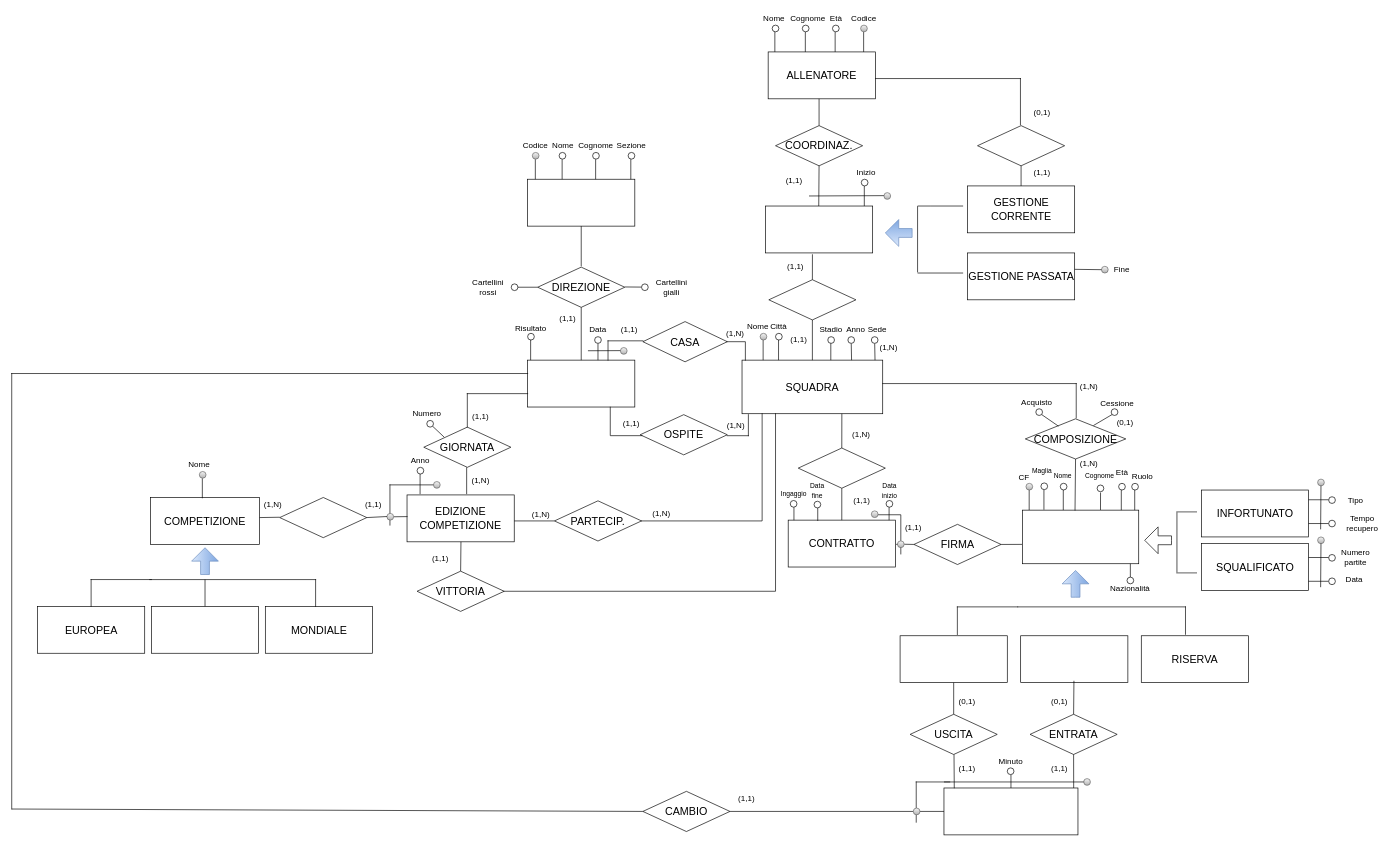
Image size: 1394x847. Some labels were removed from this diagram. The centre of each missing label's shape, as x and y in pixels:
"ARBITRO" goes at pixel 581 202.
"GESTIONE" goes at pixel 819 229.
"GIOCATORE" goes at pixel 1080 536.
"INCARICO" goes at pixel 812 299.
"NAZIONALE" goes at pixel 205 629.
"OCCORRENZA" goes at pixel 323 517.
"PANCHINARO" goes at pixel 1074 659.
"PARTITA" goes at pixel 581 383.
"PREPARAZ." goes at pixel 1021 145.
"SOSTITUZIONE" goes at pixel 1010 811.
"SOTTOSCRIZ." goes at pixel 841 467.
"TITOLARE" goes at pixel 953 659.
